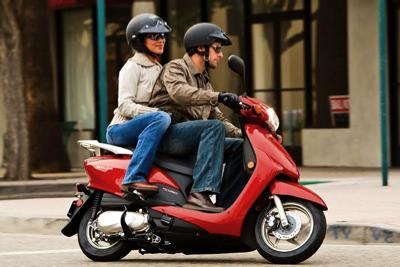With Helmet: (181, 16, 236, 70)
